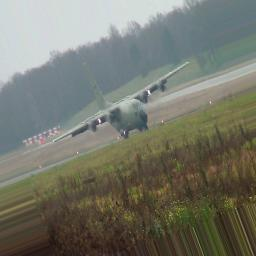Airplane: (49, 58, 191, 146)
